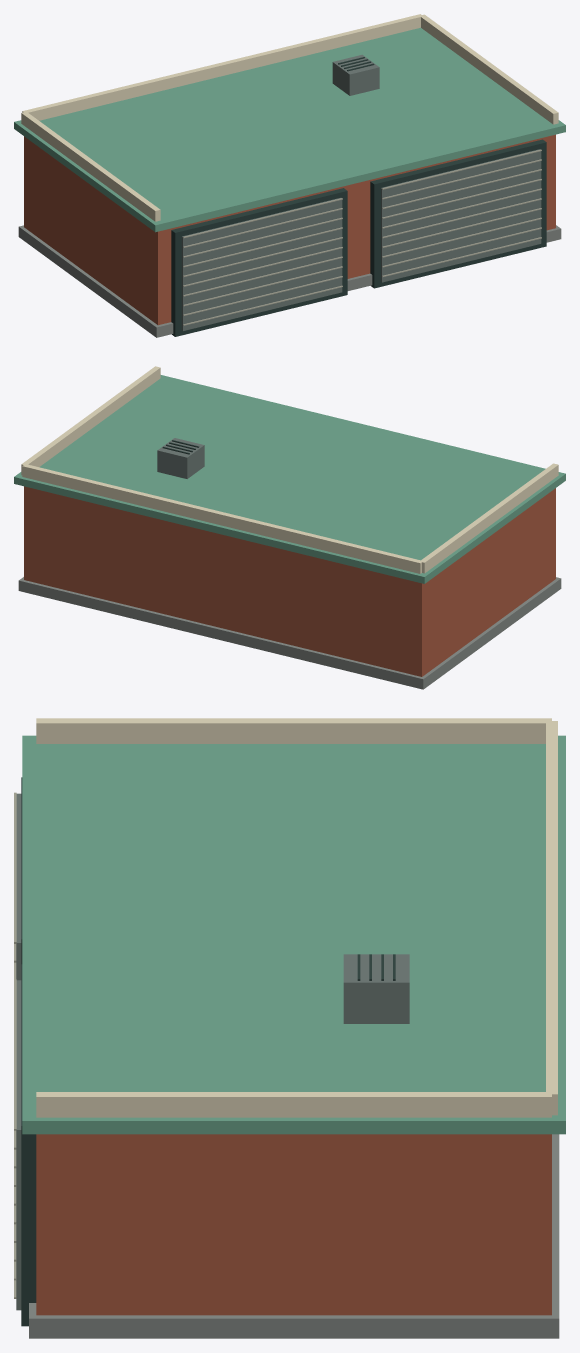
Rendered from GaragePair.obj.
3 views of the same model, one above another, from view 1: azimuth 30°, elevation 25°; view 2: azimuth 150°, elevation 25°; view 3: azimuth 270°, elevation 25° (orthographic). The views are drawn at different scales.
Visible parts, largest first — view 1: GaragePair; view 2: GaragePair; view 3: GaragePair.
Part boxes in pixels (x1,y1,x2,y2): GaragePair: (14, 14, 565, 337); GaragePair: (14, 366, 565, 689); GaragePair: (14, 718, 565, 1338).
Bounding box in the file's own units: 12.38 × 4.01 × 7.49.
1 material, 1 textured.
